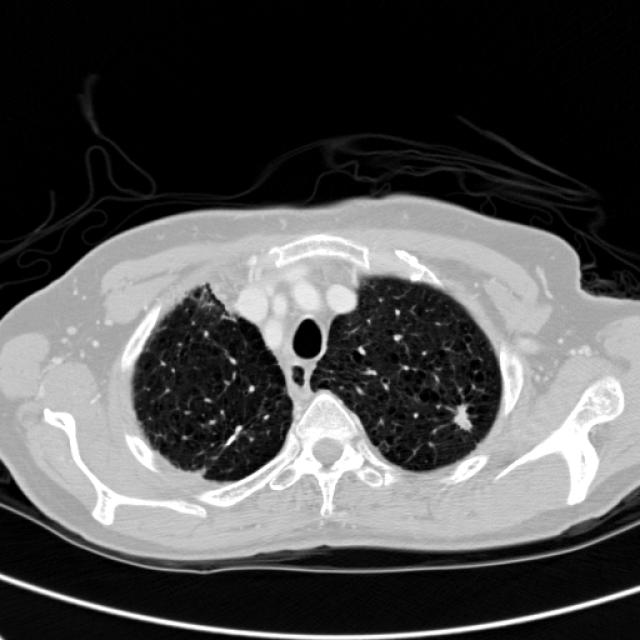nodule: (439, 395, 489, 445)
